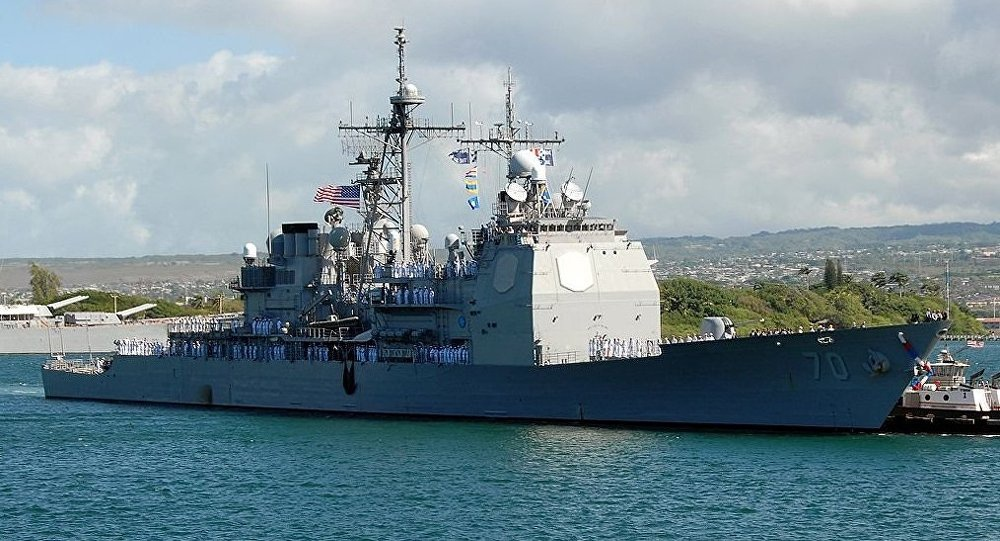warship: (37, 17, 964, 425)
